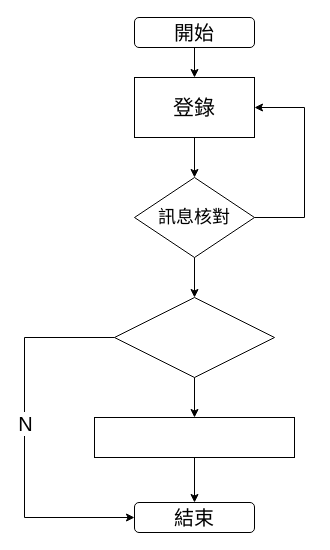
Image size: 330x550. Some labels were removed from this diagram. The box of each missing label's shape, as (x1, y1, x2, y2) in pixels:
是否管理員: (114, 296, 274, 378)
查看、添加、刪除、修改等: (94, 416, 294, 458)
